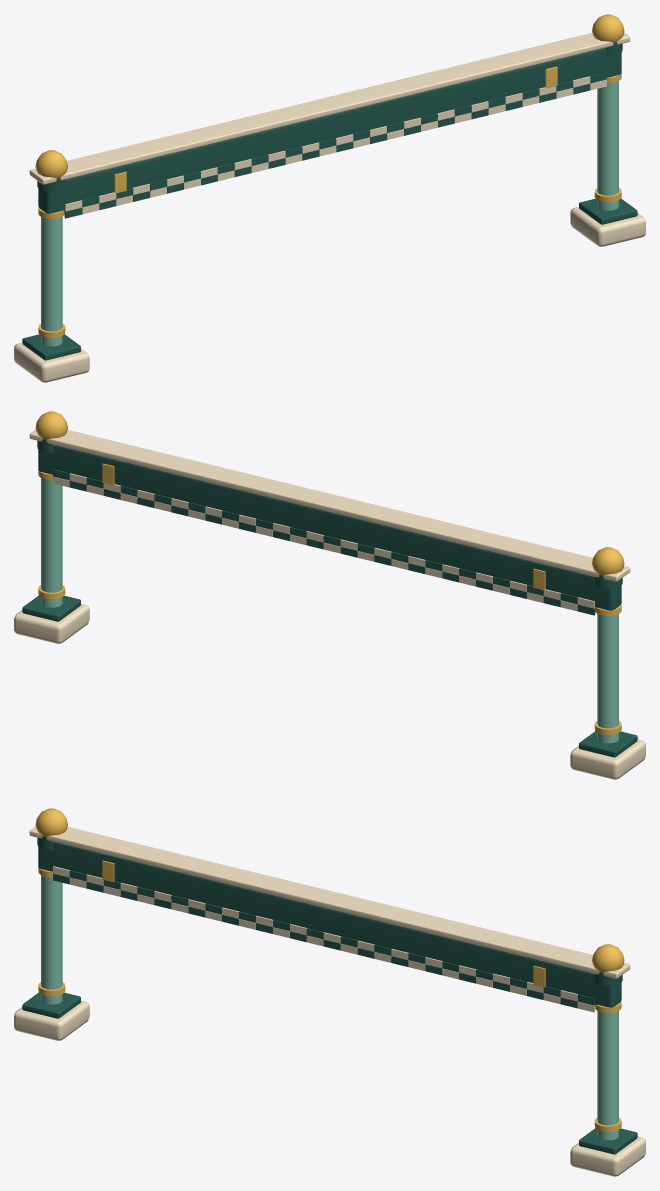
File: athlete_start_gate.glb
3 renders of one model, top to bottom at view 1: azimuth 30°, elevation 25°; view 2: azimuth 150°, elevation 25°; view 3: azimuth 330°, elevation 25°, orthographic.
Visible parts, largest first — view 1: athlete_start_gate__ink, athlete_start_gate__cream, athlete_start_gate__mint, athlete_start_gate__gold; view 2: athlete_start_gate__ink, athlete_start_gate__cream, athlete_start_gate__mint, athlete_start_gate__gold; view 3: athlete_start_gate__ink, athlete_start_gate__cream, athlete_start_gate__mint, athlete_start_gate__gold.
Part boxes in pixels (x1,y1,x2,y2): athlete_start_gate__ink: [22, 42, 637, 360]; athlete_start_gate__cream: [14, 32, 645, 382]; athlete_start_gate__mint: [41, 81, 618, 346]; athlete_start_gate__gold: [35, 14, 624, 337]; athlete_start_gate__ink: [22, 439, 637, 757]; athlete_start_gate__cream: [14, 429, 645, 779]; athlete_start_gate__mint: [41, 478, 618, 743]; athlete_start_gate__gold: [35, 411, 624, 734]; athlete_start_gate__ink: [22, 836, 637, 1154]; athlete_start_gate__cream: [14, 826, 645, 1176]; athlete_start_gate__mint: [41, 875, 618, 1140]; athlete_start_gate__gold: [35, 808, 624, 1131].
Size of the model in its own units: 7.72 by 2.64 by 0.68.
